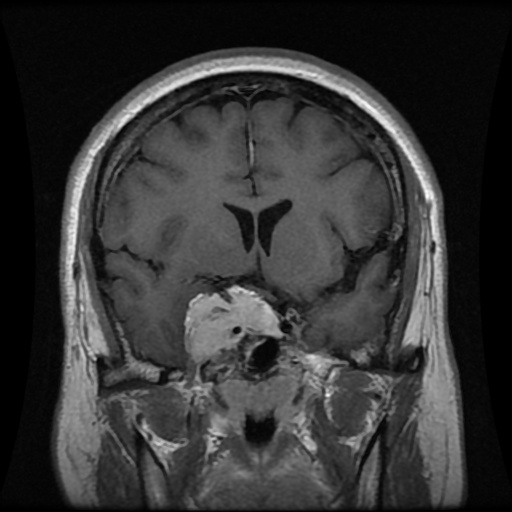meningioma: (183, 283, 286, 363)
